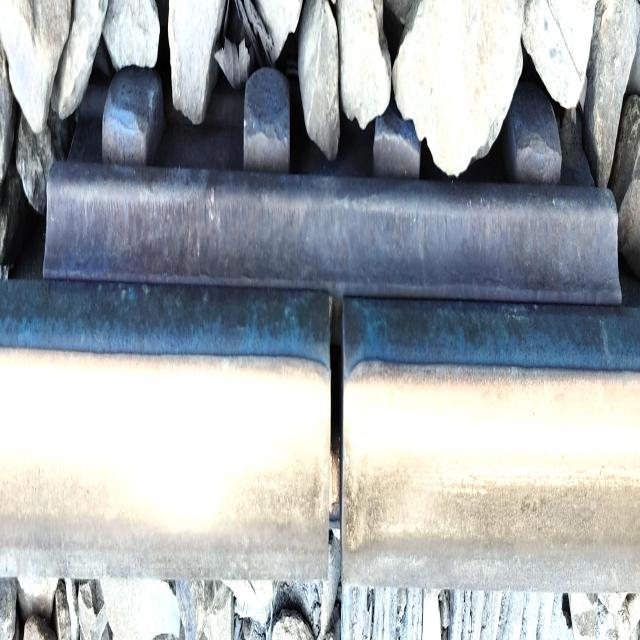Good Joint: (44, 69, 620, 304)
